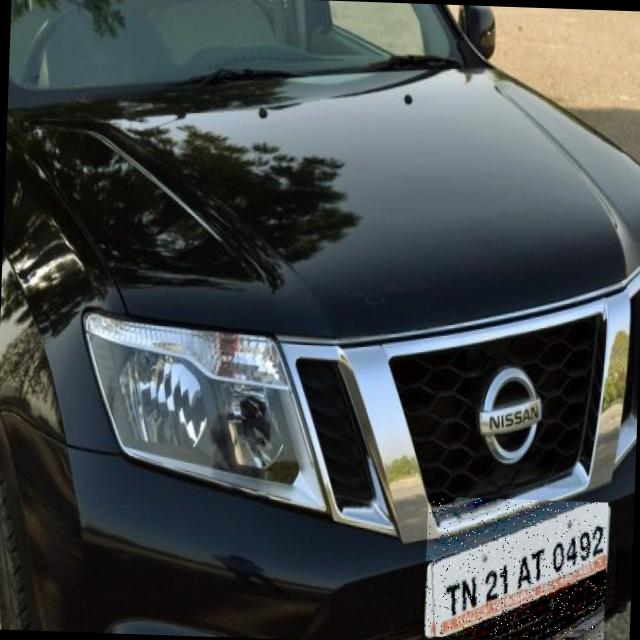Plate: (424, 497, 609, 640)
